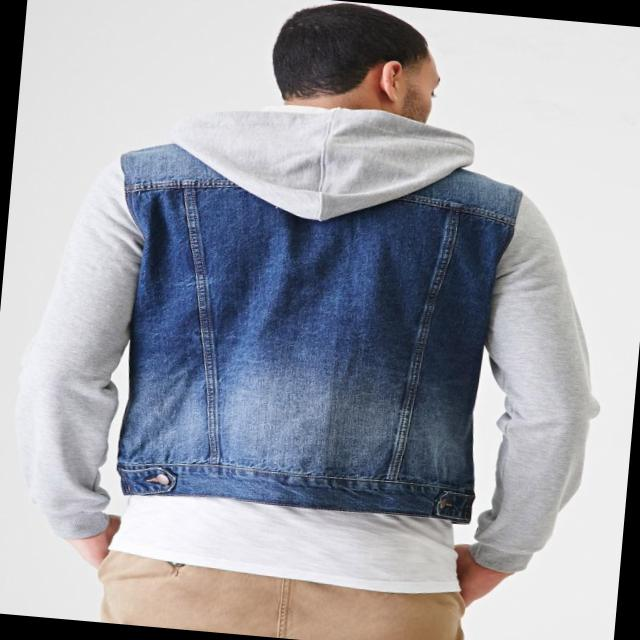Jacket: (0, 86, 615, 586)
